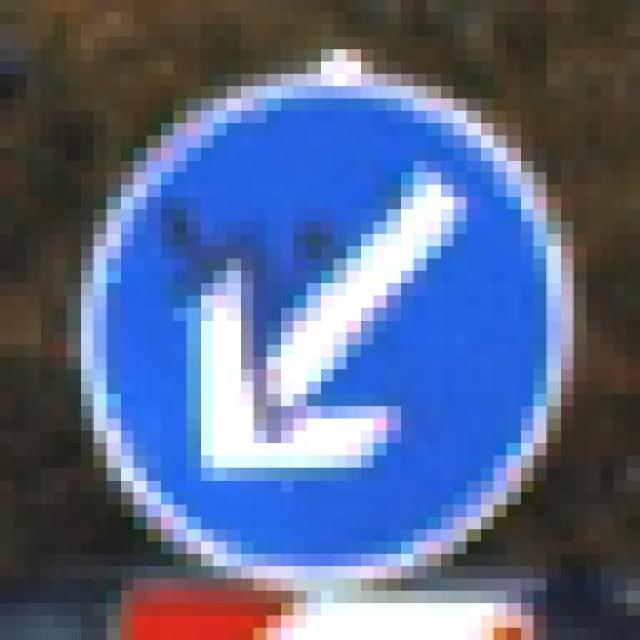Keep-Left: (66, 37, 574, 591)
